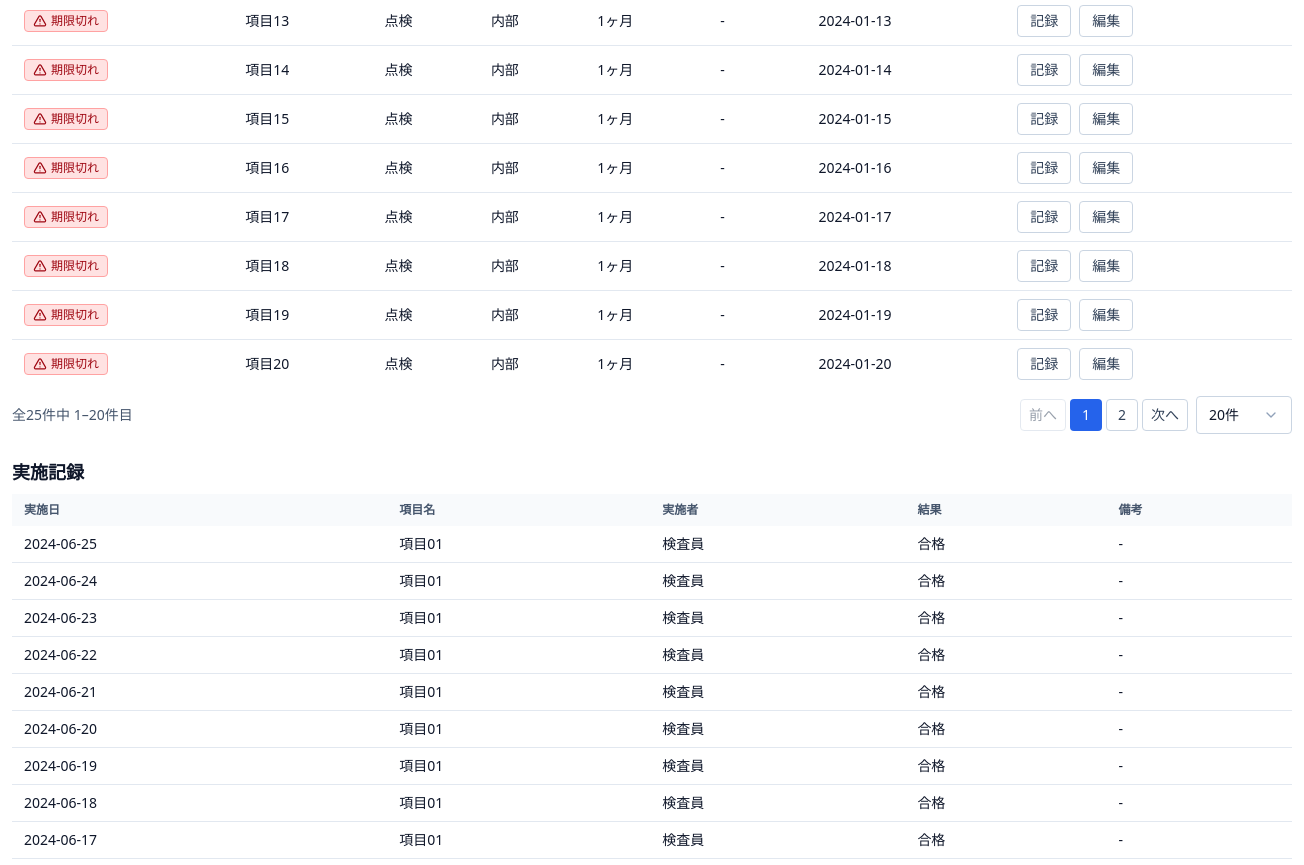
Test: EquipmentDetail: 2テーブルのページネーションは独立する › 項目テーブルのページ切替は実施記録テーブルに影響せず、その逆も同様
(page scrolled)
Click the button "次へ". click: (1165, 415)
box: [1142,399,1188,431]
(page scrolled)
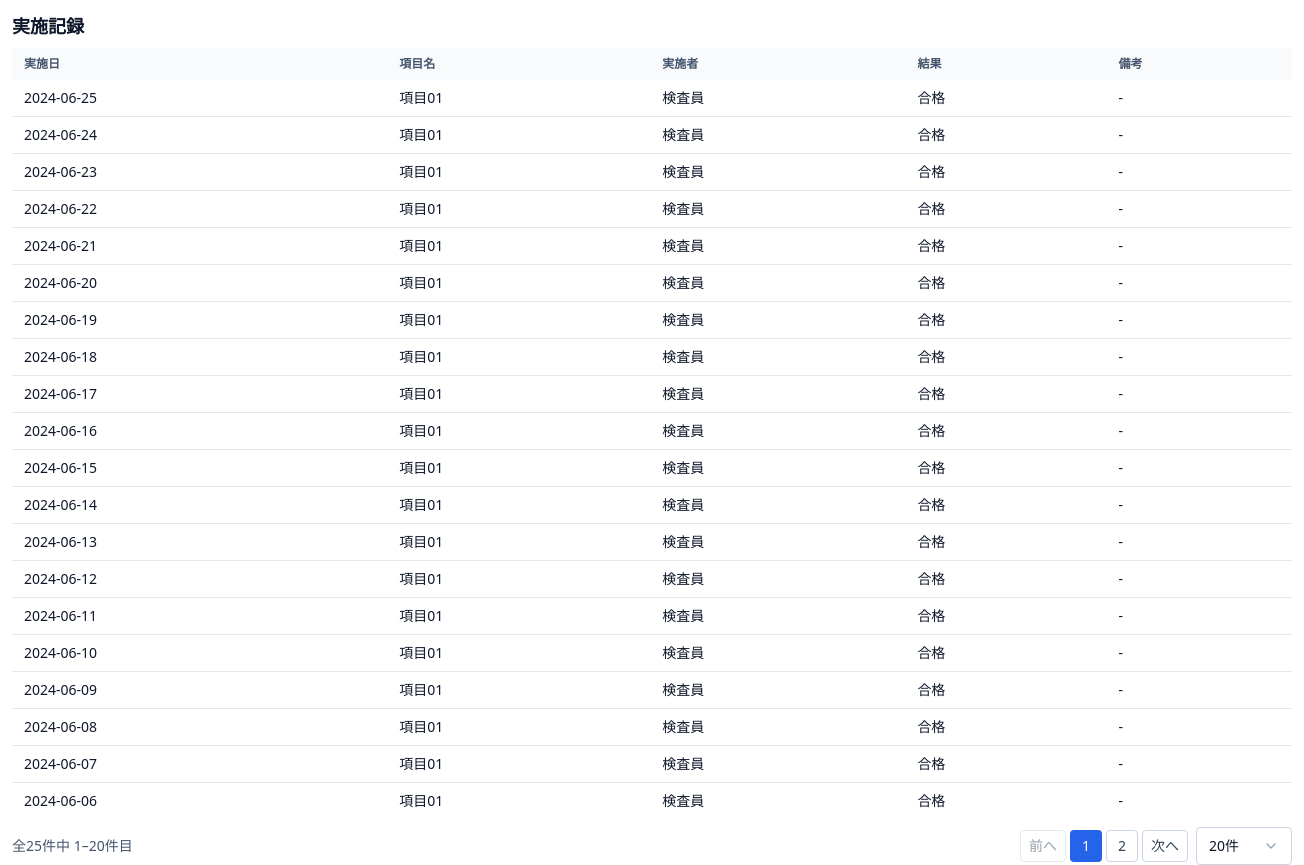
Expected: the text "2024-06-25" is shown, [24,88,97,107]
Expected: the text "2024-06-05" is not shown
Click the button "次へ" in the row of "全25件中 1–20件目". click: (1165, 846)
box: [1142,830,1188,862]
(page scrolled)
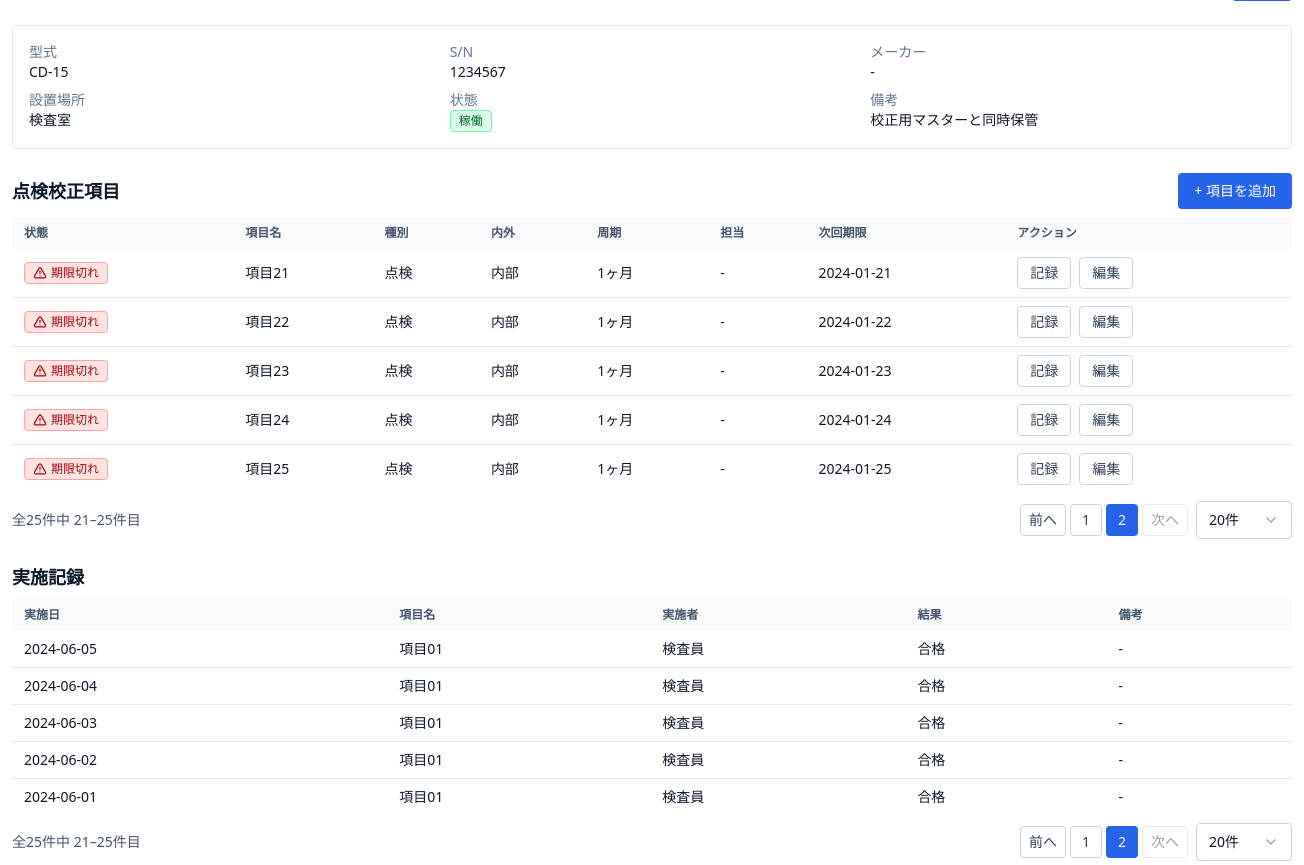
Now the text "項目25" is shown, box [245,459,289,478]
Now the text "2024-06-05" is shown, box [24,639,97,658]
